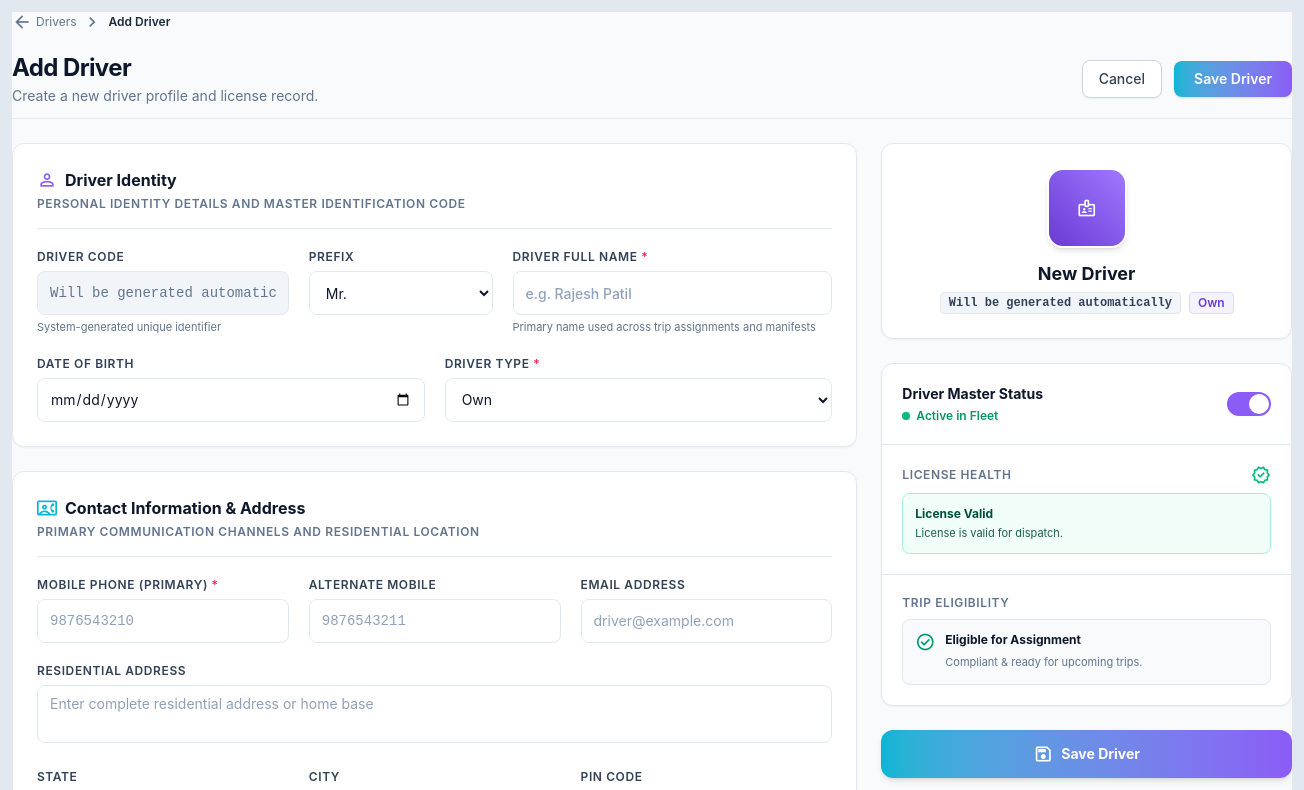
it: DriverForm › updates mobile number and removes non-numeric characters
The image size is (1304, 790).
Type "98abc76543210" into the field labelled "Mobile Phone (Primary) *" at (163,620), box [37,598,289,642]
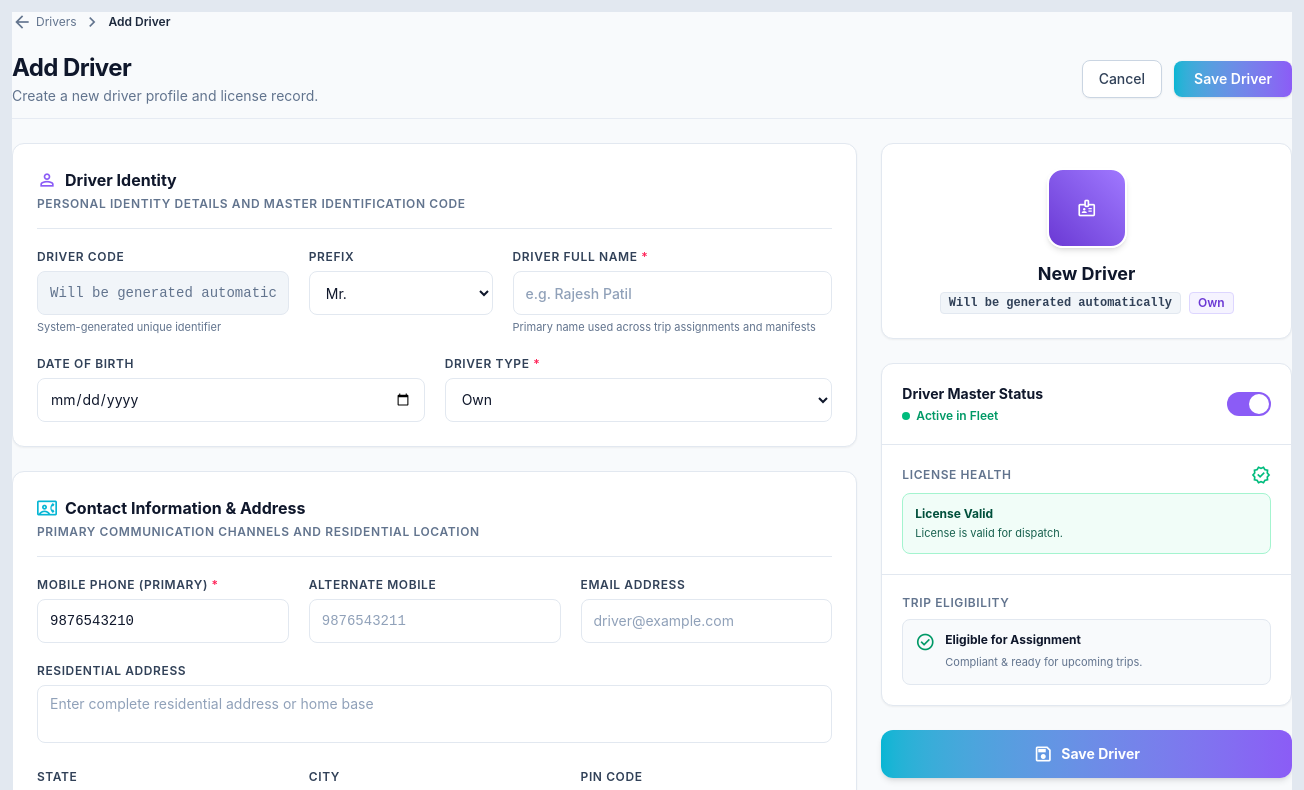
Check: the field labelled "Mobile Phone (Primary) *" holds "9876543210", box [37,598,289,642]
